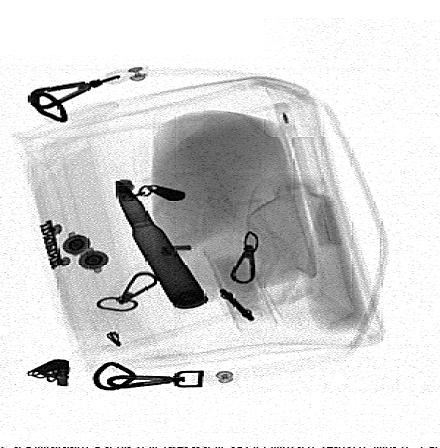Bullet: (116, 178, 208, 309)
